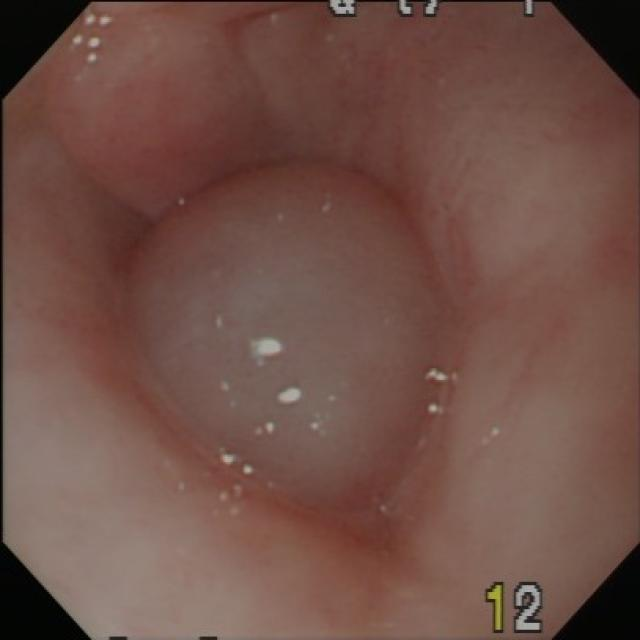S: (485, 581, 547, 636), (325, 3, 545, 18)
U: (71, 13, 118, 69), (218, 448, 256, 479), (251, 337, 286, 366), (220, 482, 245, 516), (421, 364, 458, 386), (275, 384, 306, 405), (308, 413, 328, 434), (254, 420, 278, 436), (426, 402, 448, 415)
